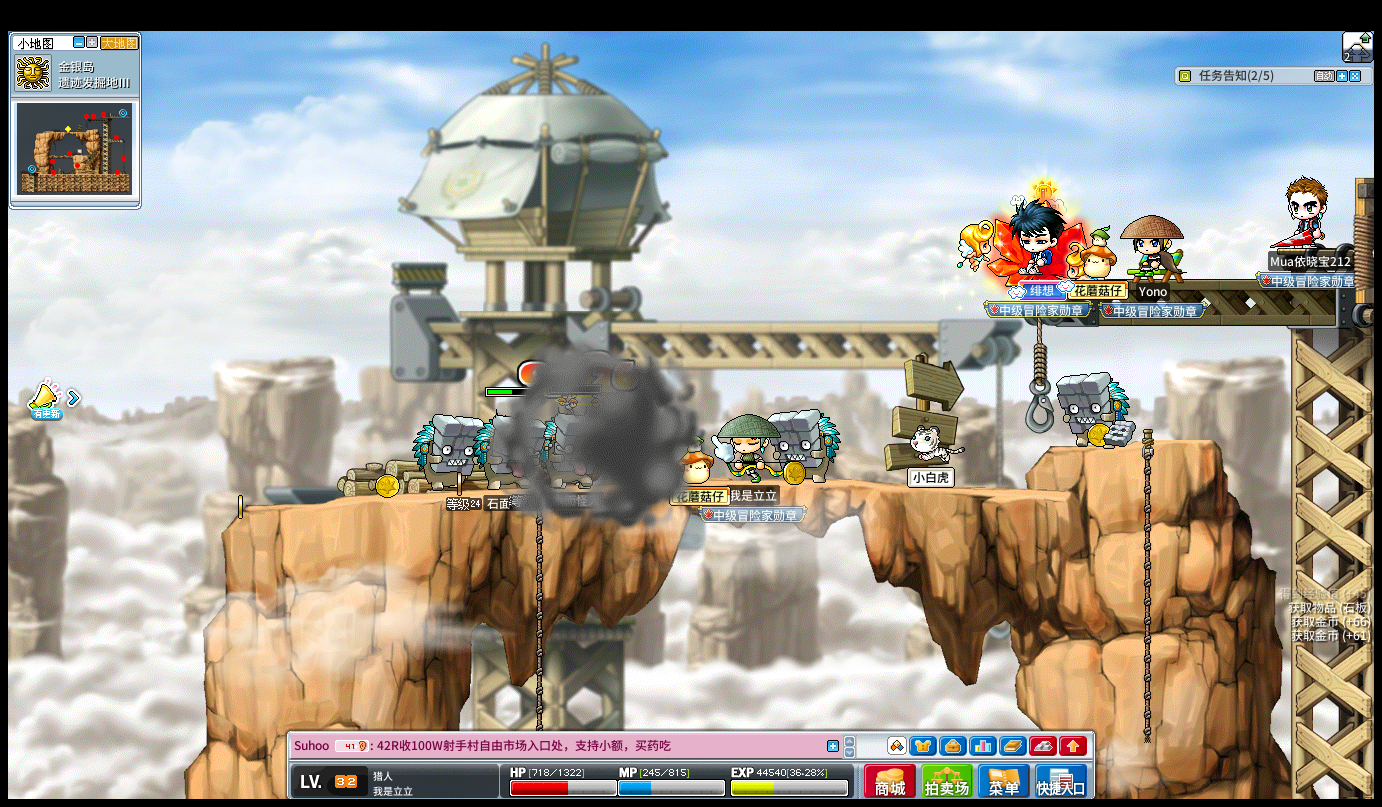floor: (223, 480, 804, 509), (688, 477, 1082, 497), (1051, 436, 1217, 452)
monster: (474, 410, 546, 493), (1056, 371, 1130, 447), (771, 409, 841, 484), (412, 413, 477, 493)
rope: (1139, 429, 1154, 747), (531, 497, 544, 681), (1140, 632, 1153, 741), (1034, 317, 1046, 400)
